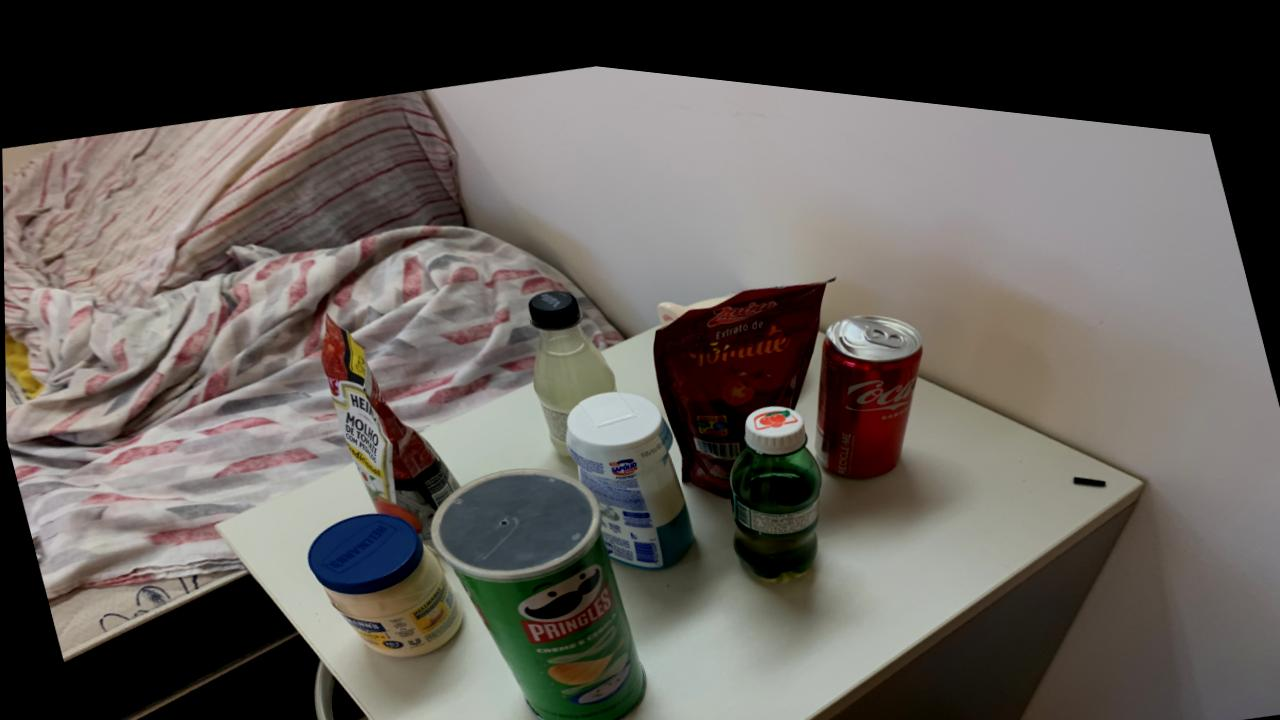Cleaner-Cleanup_Items: (565, 378, 692, 554)
Coke-Drinks: (815, 294, 922, 458)
Guarana-Drinks: (728, 387, 822, 562)
Mayonnaise-Pantry_Items: (306, 505, 461, 648)
Pig_Safe-Miscellaneous: (656, 276, 735, 311)
Pringles-Snacks: (429, 457, 644, 716)
Soda-Drinks: (527, 277, 616, 446)
Tomato_Sauce-Pantry_Items: (652, 263, 825, 480), (320, 311, 458, 529)
